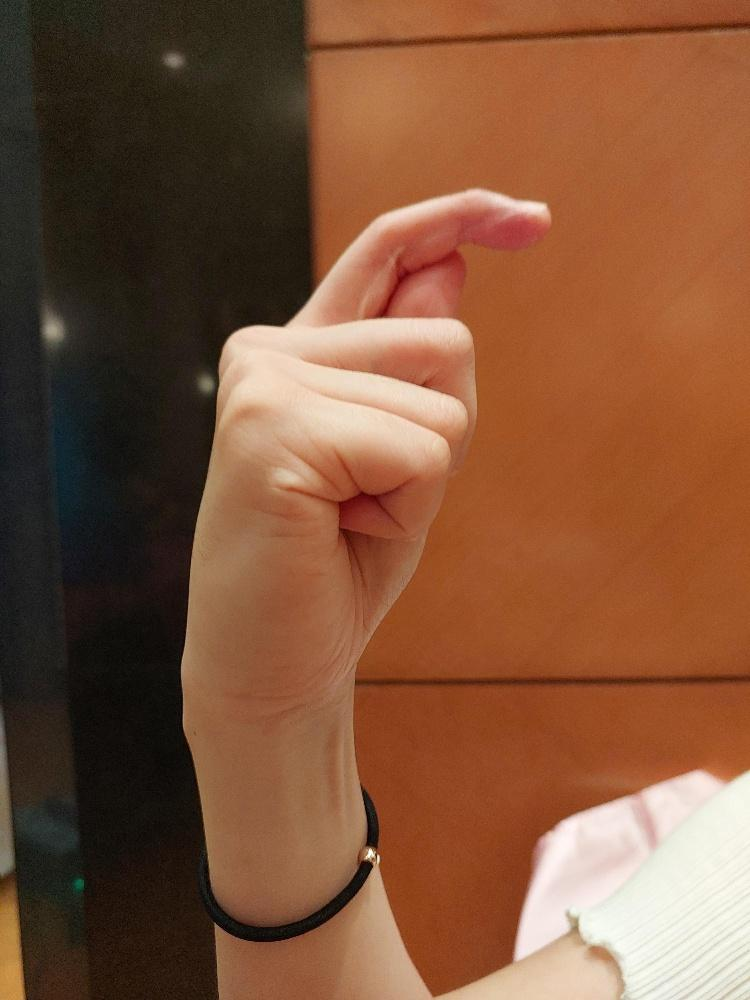t: (180, 184, 555, 724)
